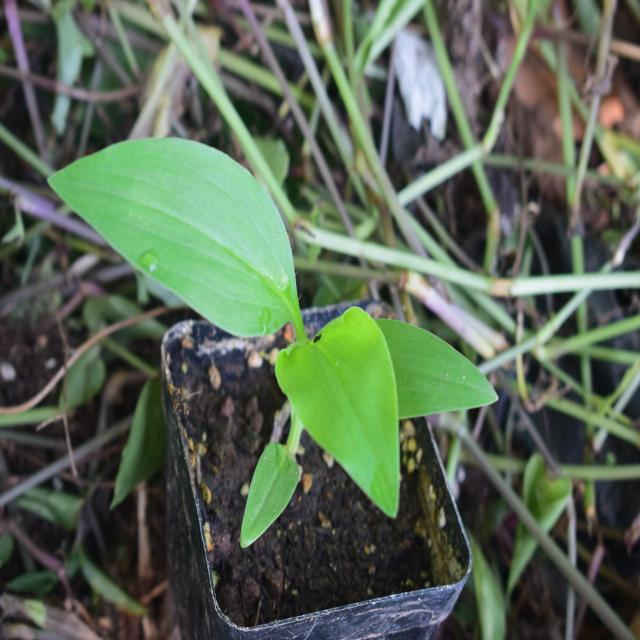Common Dayflower: (46, 120, 475, 522)
